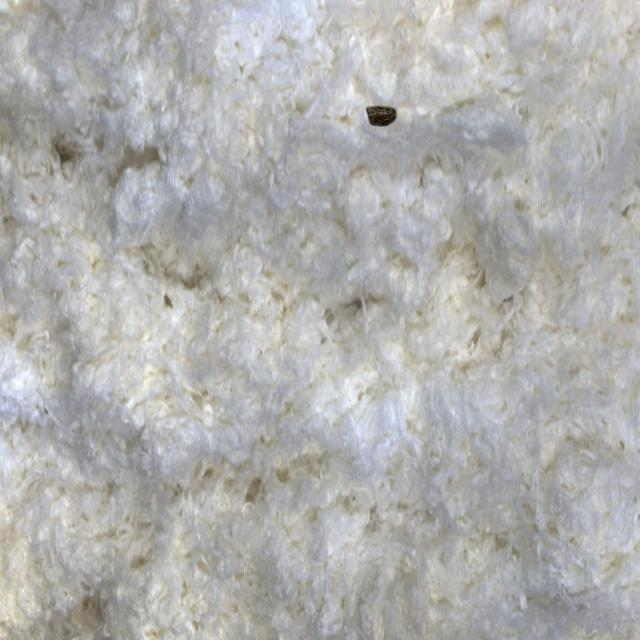dust: (343, 55, 424, 166)
